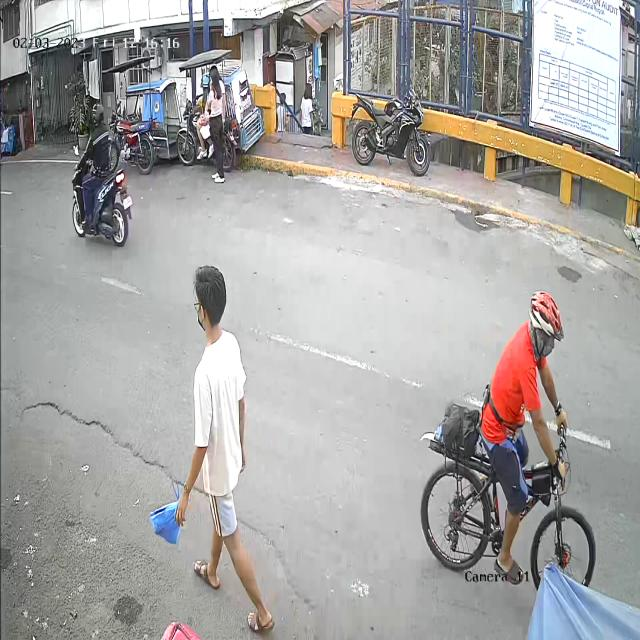human: (150, 264, 274, 634)
trash: (147, 480, 185, 552)
